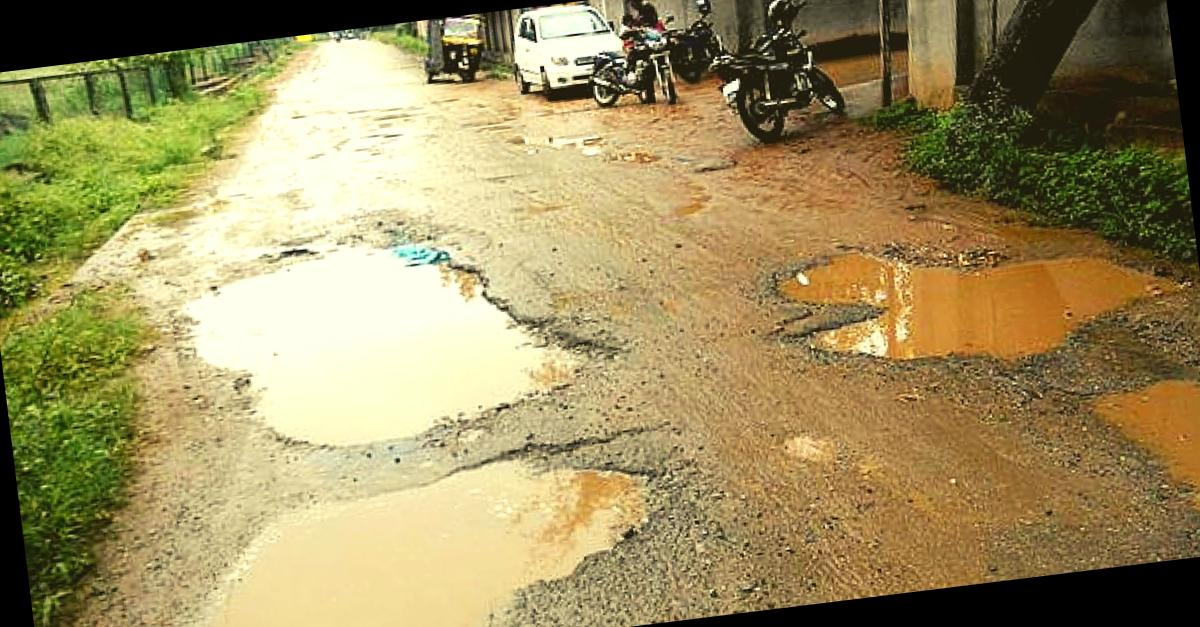pothole: (157, 202, 618, 467), (159, 416, 702, 627), (725, 188, 1197, 404), (1051, 353, 1200, 541), (536, 112, 654, 180)
